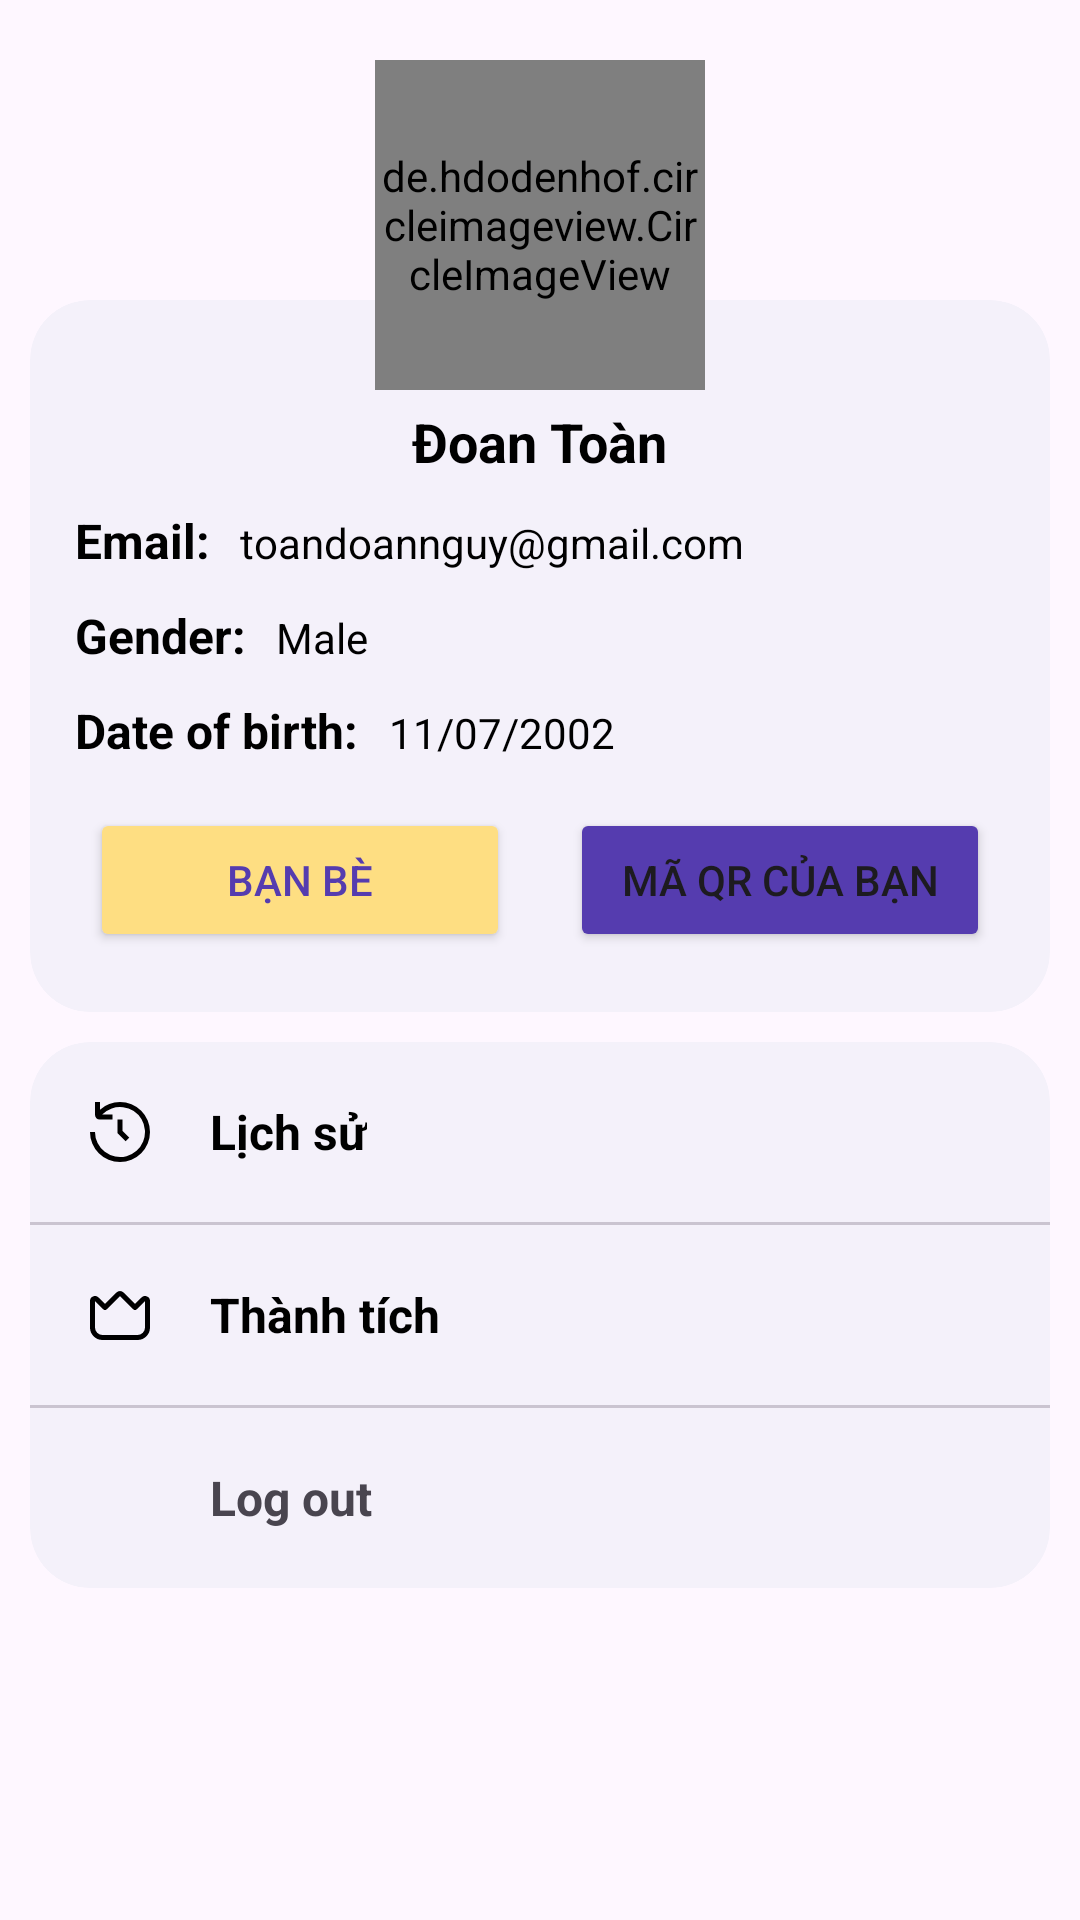

Icon bounding boxes for this 1080×1920 phone screenshot, format (x1, y1, x2, y2):
crown: (90, 1291, 150, 1340)
time past: (90, 1102, 150, 1162)
